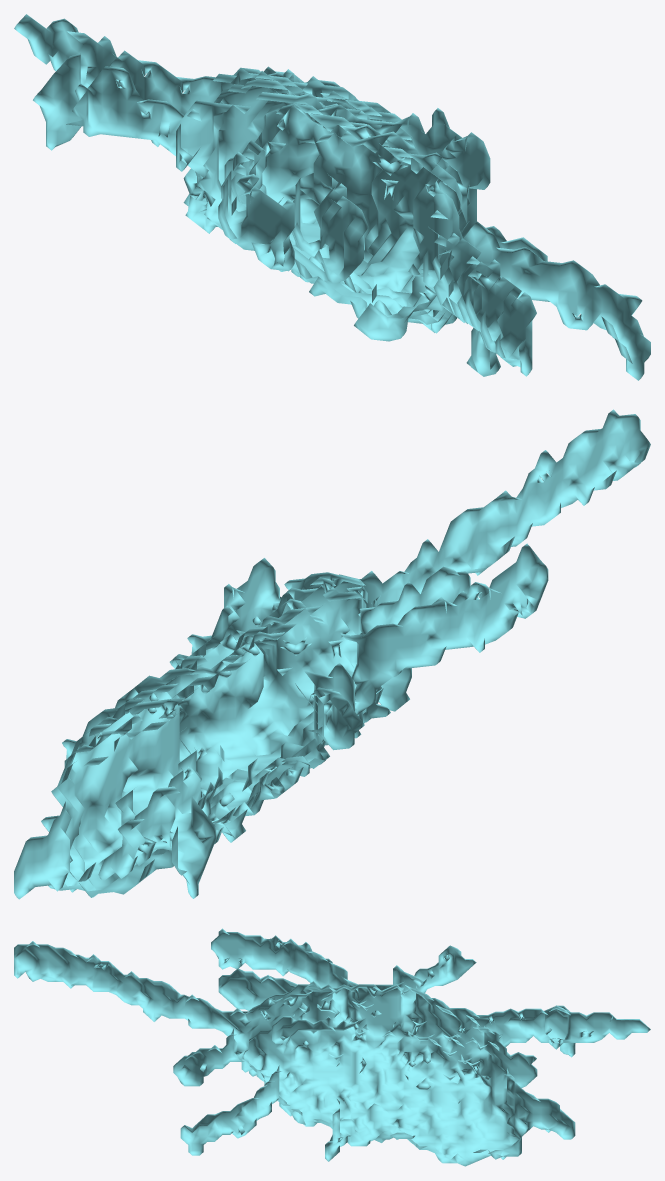
The model's file is osteocyte_55.glb.
3 views of the same model, one above another, from view 1: azimuth 30°, elevation 25°; view 2: azimuth 150°, elevation 25°; view 3: azimuth 270°, elevation 25° (orthographic). The views are drawn at different scales.
Parts seen in each view (by area): view 1: osteocyte_55; view 2: osteocyte_55; view 3: osteocyte_55.
Part boxes in pixels (x1,y1,x2,y2): osteocyte_55: (14, 14, 650, 380); osteocyte_55: (14, 409, 650, 899); osteocyte_55: (14, 928, 650, 1166).
Size of the model in its own units: 15.41 by 11.55 by 40.44.
